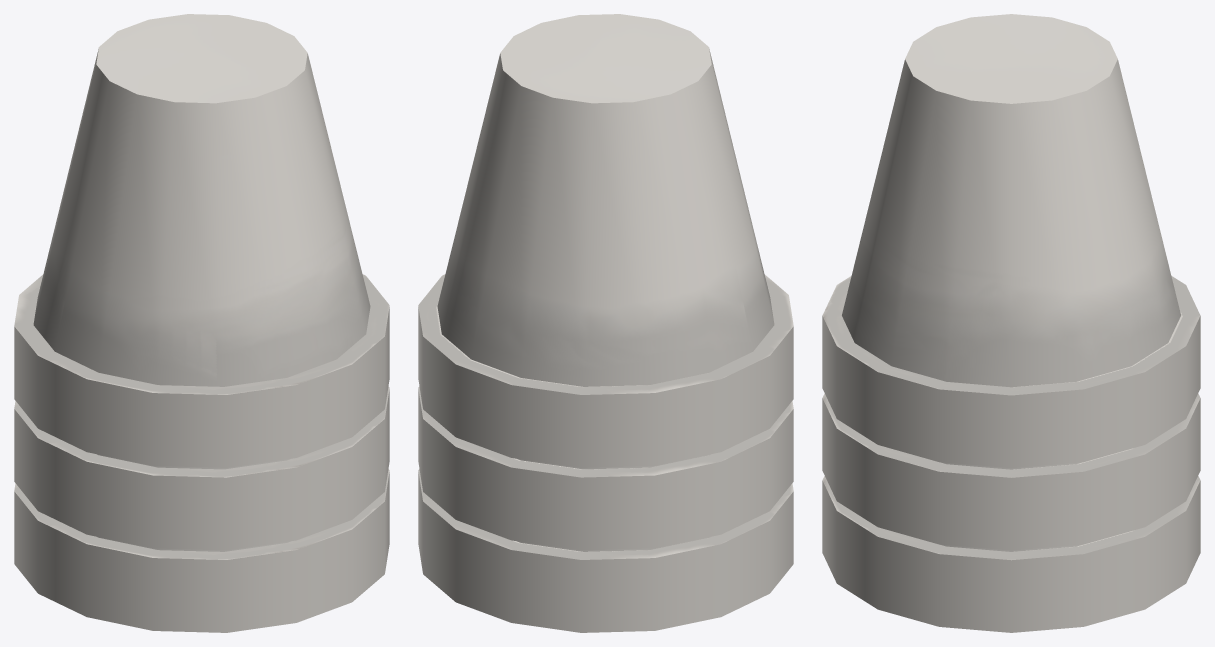
The model's file is 3 copos down.fbx.
3 views of the same model, side by side, from view 1: azimuth 30°, elevation 25°; view 2: azimuth 150°, elevation 25°; view 3: azimuth 270°, elevation 25° (orthographic).
Visible parts, largest first — view 1: copinhos 3baixo; view 2: copinhos 3baixo; view 3: copinhos 3baixo.
Boxes of the visible parts, left/top/right/bottom form: copinhos 3baixo: left=14, top=14, right=389, bottom=632; copinhos 3baixo: left=418, top=14, right=793, bottom=632; copinhos 3baixo: left=822, top=14, right=1200, bottom=632.
Bounding box in the file's own units: 66.84 × 96.39 × 66.84.
